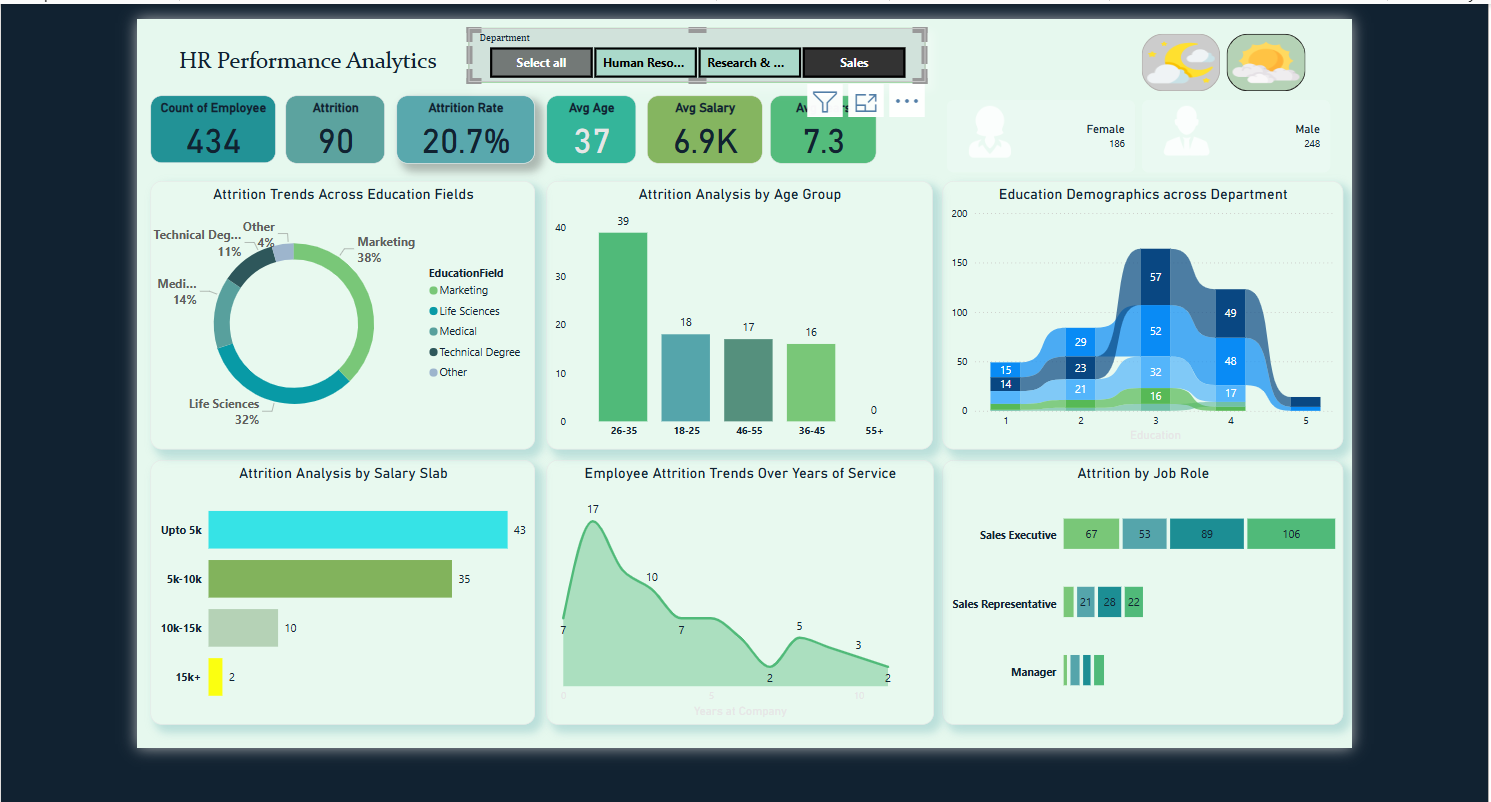

The page's visual inventory and layout, read from the dashboard file:
{"tool":"powerbi","page":{"name":"Page 1","canvas":[1500,900],"ordinal":0},"visuals":[{"type":"shape","box":[0,0,1500,900],"z":0},{"type":"card","title":"Count of Employee","fields":{"Values":["CountNonNull(HR_Analytics.EmpID)"]},"box":[16,94,154.4,83.4],"z":1000},{"type":"card","title":"Attrition","fields":{"Values":["Sum(HR_Analytics.AttritionCount)"]},"box":[183,93.6,122.9,83.8],"z":2000},{"type":"card","title":"Attrition Rate","fields":{"Values":["HR_Analytics.AttritionRate"]},"box":[321.3,93.6,170.4,83.8],"z":3000},{"type":"card","title":"Avg Age","fields":{"Values":["Avg(HR_Analytics.Age)"]},"box":[505.7,93.6,110.4,83.8],"z":4000},{"type":"card","title":"Avg Salary","fields":{"Values":["Avg(HR_Analytics.MonthlyIncome)"]},"box":[630,93.6,142.5,83.8],"z":5000},{"type":"card","title":"Avg Years","fields":{"Values":["Avg(HR_Analytics.YearsAtCompany)"]},"box":[782.3,93.6,131.3,83.8],"z":6000},{"type":"donutChart","title":"Attrition Trends Across Education Fields","fields":{"Category":["HR_Analytics.EducationField"],"Y":["Sum(HR_Analytics.AttritionCount)"]},"box":[16.8,199.8,474.9,331.1],"z":7000},{"type":"columnChart","title":"Attrition Analysis by Age Group","fields":{"Category":["HR_Analytics.AgeGroup"],"Y":["Sum(HR_Analytics.AttritionCount)"]},"box":[505.7,199.8,476.3,331.1],"z":8000},{"type":"barChart","title":"Attrition Analysis by Salary Slab","fields":{"Category":["HR_Analytics.SalarySlab"],"Y":["Sum(HR_Analytics.AttritionCount)"]},"box":[16.8,544.8,474.9,326.9],"z":9000},{"type":"barChart","title":"Attrition by Job Role","fields":{"Y":["CountNonNull(HR_Analytics.JobRole)"],"Series":["HR_Analytics.JobSatisfaction"],"Category":["HR_Analytics.JobRole"]},"box":[994.6,544.8,494.5,326.9],"z":10000},{"type":"areaChart","title":"Employee Attrition Trends Over Years of Service","fields":{"Category":["HR_Analytics.YearsAtCompany"],"Y":["Sum(HR_Analytics.AttritionCount)"]},"box":[505.7,544.8,477.7,326.9],"z":11000},{"type":"slicer","fields":{"Values":["HR_Analytics.Department"]},"box":[409.3,11.2,564.3,67.4],"z":12000},{"type":"ribbonChart","title":"Education Demographics across Department ","fields":{"Category":["HR_Analytics.Education"],"Y":["CountNonNull(HR_Analytics.Department)"],"Series":["HR_Analytics.EducationField"]},"box":[994.6,199.8,494.5,331.1],"z":13000},{"type":"image","box":[1260.2,102.3,73.4,71.9],"z":14000},{"type":"image","box":[1012.5,102.3,79.7,74.2],"z":15000},{"type":"advancedSlicerVisual","fields":{"Values":["HR_Analytics.Gender"]},"box":[994,94,484,100],"z":16000},{"type":"advancedSlicerVisual","fields":{"Values":["Dark_Mode.Label"]},"box":[1235.4,12.5,212.5,81.2],"z":17000},{"type":"shape","box":[27.4,11.3,366.1,79],"z":18000}]}

Visuals, with their boxes on the page's 1500x900 design canvas (x1, y1, x2, y2). These are canvas units, not pixel positions in the 1491x802 screenshot, which may show the page scaled, cropped or inside an application window:
shape: 0,0,1500,900
"Count of Employee" card: 16,94,170,177
"Attrition" card: 183,94,306,177
"Attrition Rate" card: 321,94,492,177
"Avg Age" card: 506,94,616,177
"Avg Salary" card: 630,94,772,177
"Avg Years" card: 782,94,914,177
"Attrition Trends Across Education Fields" donutChart: 17,200,492,531
"Attrition Analysis by Age Group" columnChart: 506,200,982,531
"Attrition Analysis by Salary Slab" barChart: 17,545,492,872
"Attrition by Job Role" barChart: 995,545,1489,872
"Employee Attrition Trends Over Years of Service" areaChart: 506,545,983,872
slicer - HR_Analytics.Department: 409,11,974,79
"Education Demographics across Department " ribbonChart: 995,200,1489,531
image: 1260,102,1334,174
image: 1012,102,1092,176
advancedSlicerVisual - HR_Analytics.Gender: 994,94,1478,194
advancedSlicerVisual - Dark_Mode.Label: 1235,12,1448,94
shape: 27,11,394,90
